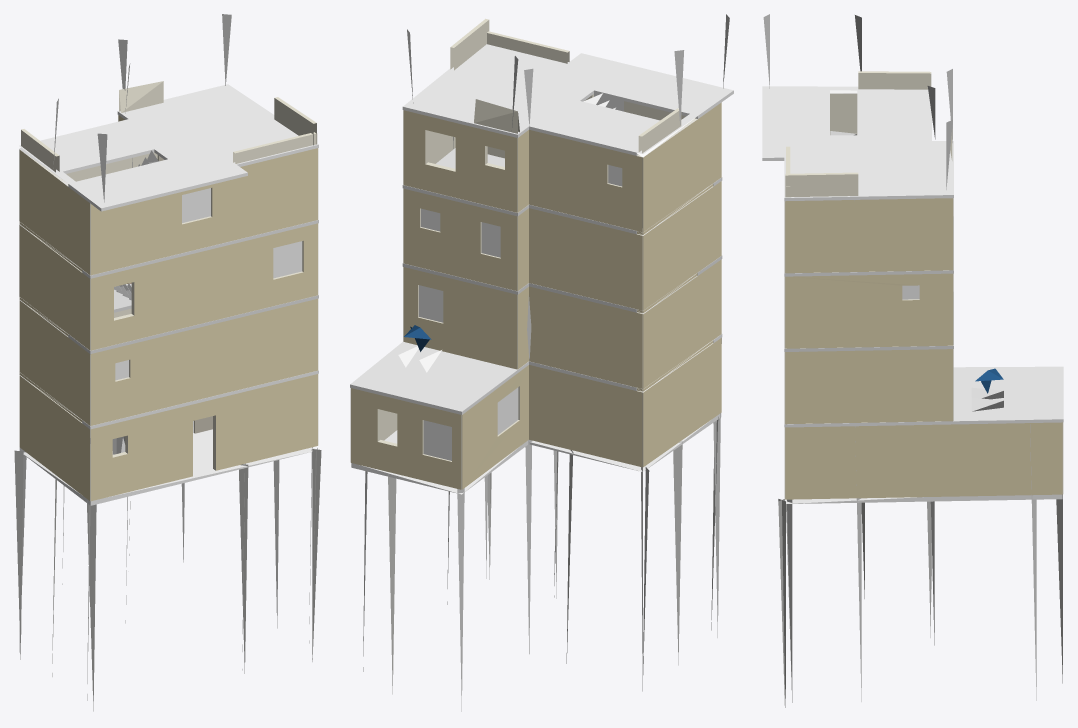
The picture shows the model from 3 angles, left to right: view 1: azimuth 30°, elevation 25°; view 2: azimuth 150°, elevation 25°; view 3: azimuth 270°, elevation 25°; orthographic projection. The views are drawn at different scales.
Visible parts, largest first — view 1: F_12; view 2: F_12; view 3: F_12.
Boxes of the visible parts, x1,y1,x2,y2 form: F_12: (14,14,321,711); F_12: (350,14,733,711); F_12: (762,14,1063,707).
Bounding box in the file's own units: 9.17 × 22.33 × 10.31.
